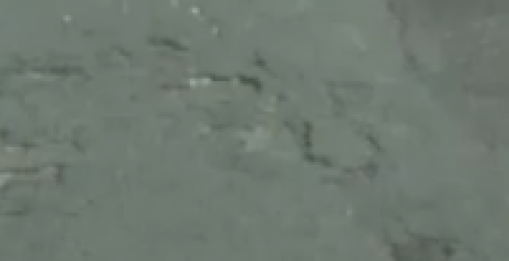Berlubang: (347, 205, 498, 261), (270, 119, 397, 184), (363, 2, 452, 83), (1, 107, 63, 211), (169, 61, 277, 108), (1, 46, 113, 87), (140, 30, 195, 56)
